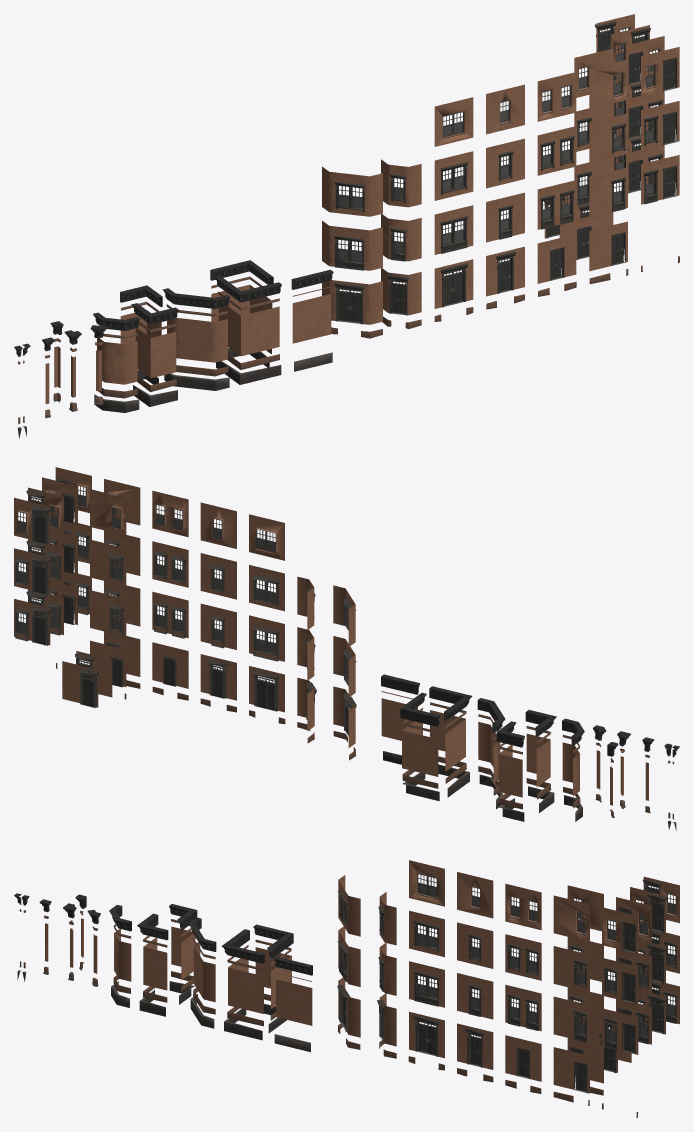
File: apartment-far.glb
The picture shows the model from 3 angles, top to bottom: view 1: azimuth 30°, elevation 25°; view 2: azimuth 150°, elevation 25°; view 3: azimuth 330°, elevation 25°; orthographic projection. The views are drawn at different scales.
Visible parts, largest first — view 1: wall_door_centered_large_01, door_angled_small_01, door_window_small_09, crown_standard_angled_large_01; view 2: wall_door_centered_large_01, door_angled_small_01, door_window_small_09, crown_standard_angled_large_01; view 3: wall_door_centered_large_01, door_angled_small_01, door_window_small_09, crown_standard_angled_large_01.
Part boxes in pixels (bbox=[...]): wall_door_centered_large_01: bbox=[45, 14, 679, 404]; door_angled_small_01: bbox=[334, 21, 677, 324]; door_window_small_09: bbox=[17, 26, 679, 438]; crown_standard_angled_large_01: bbox=[14, 260, 333, 356]; wall_door_centered_large_01: bbox=[14, 467, 648, 805]; door_angled_small_01: bbox=[15, 478, 356, 735]; door_window_small_09: bbox=[45, 489, 676, 830]; crown_standard_angled_large_01: bbox=[381, 674, 679, 757]; wall_door_centered_large_01: bbox=[45, 860, 679, 1093]; door_angled_small_01: bbox=[337, 874, 677, 1092]; door_window_small_09: bbox=[17, 873, 675, 1117]; crown_standard_angled_large_01: bbox=[14, 893, 312, 975].
Bounding box in the file's own units: 51.53 × 17 × 6.66.
5 materials, 5 textured.
